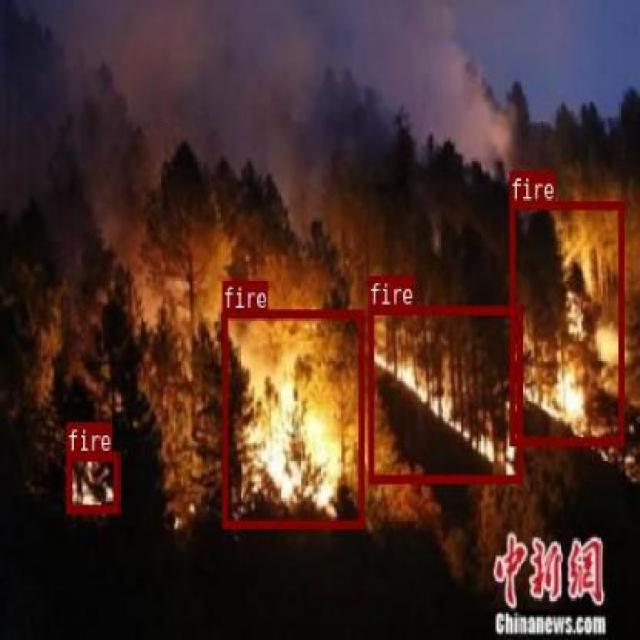fire: (220, 308, 362, 526), (508, 199, 622, 444), (368, 304, 522, 482), (66, 450, 119, 512)
